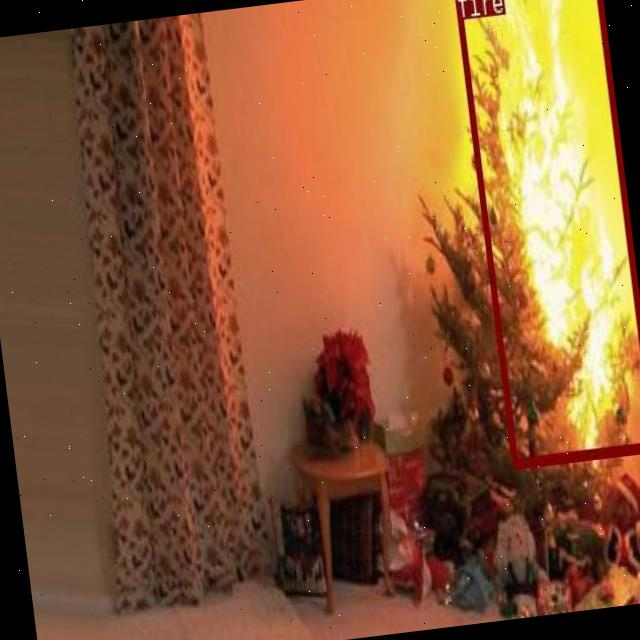fire: (452, 0, 640, 466)
